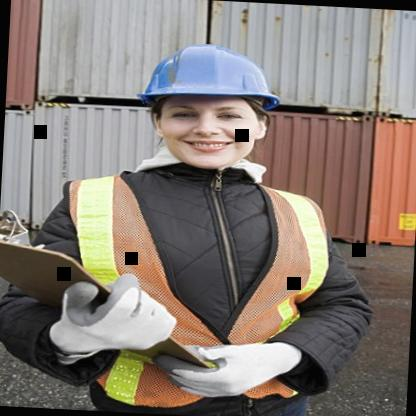helmet: (114, 25, 303, 194)
